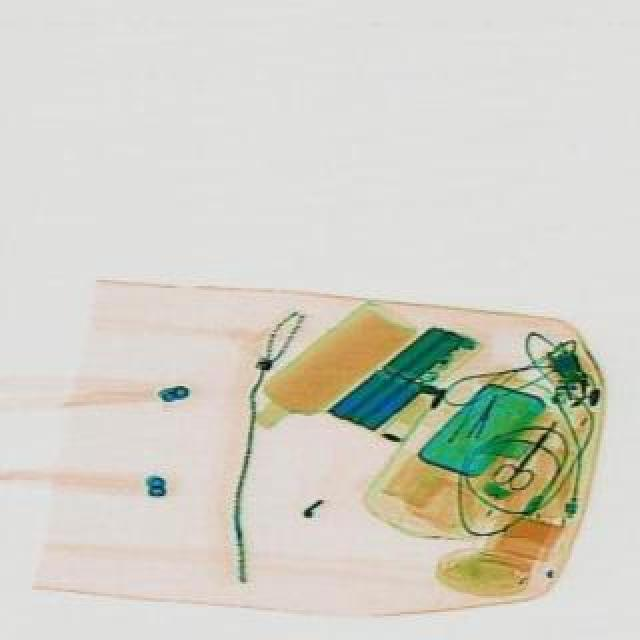pliers: (488, 410, 568, 496)
